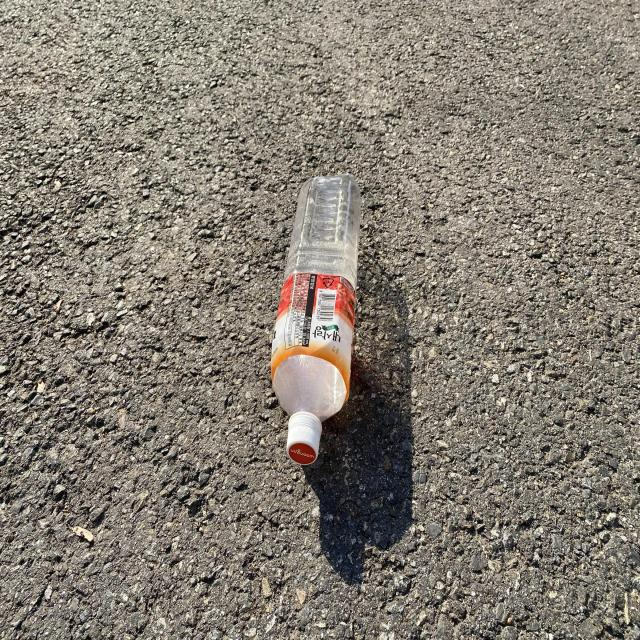plastic: (271, 173, 361, 466)
